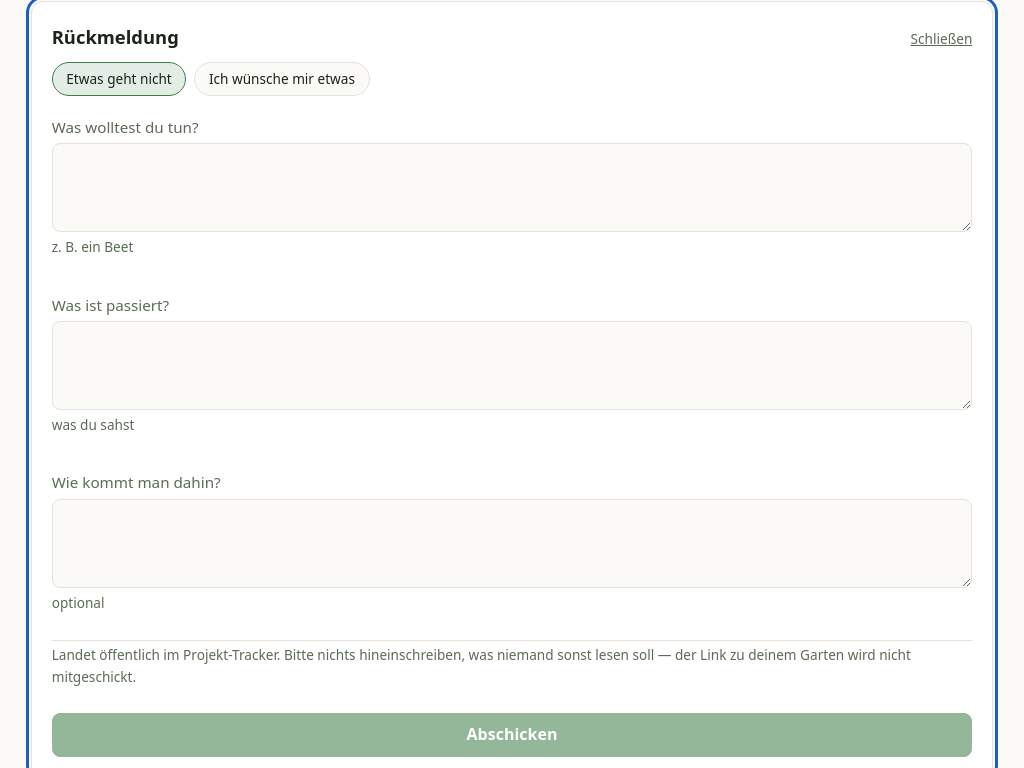
FeedbackBox › switches to the other set of questions
(page scrolled)
Click the button "Ich wünsche mir etwas" at [282, 79], box [194,62,370,96]
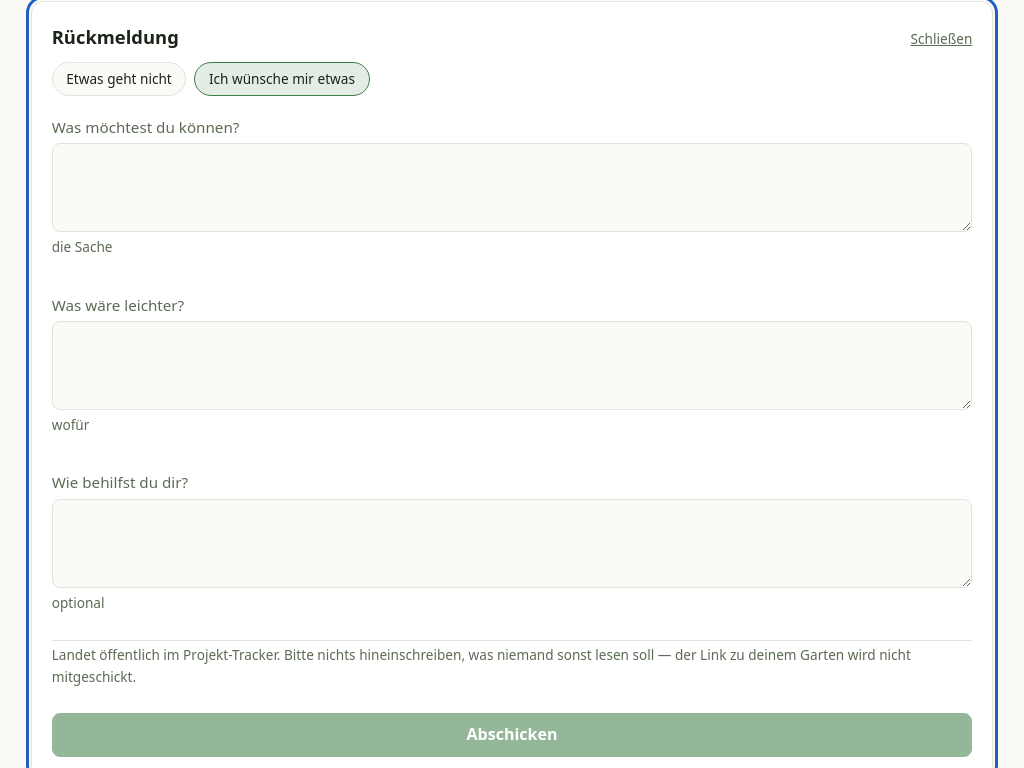
Expected: the text box labelled "Was möchtest du können? die Sache" is shown, [52,143,972,232]
Result: the label labelled "Was wolltest du tun" is gone
